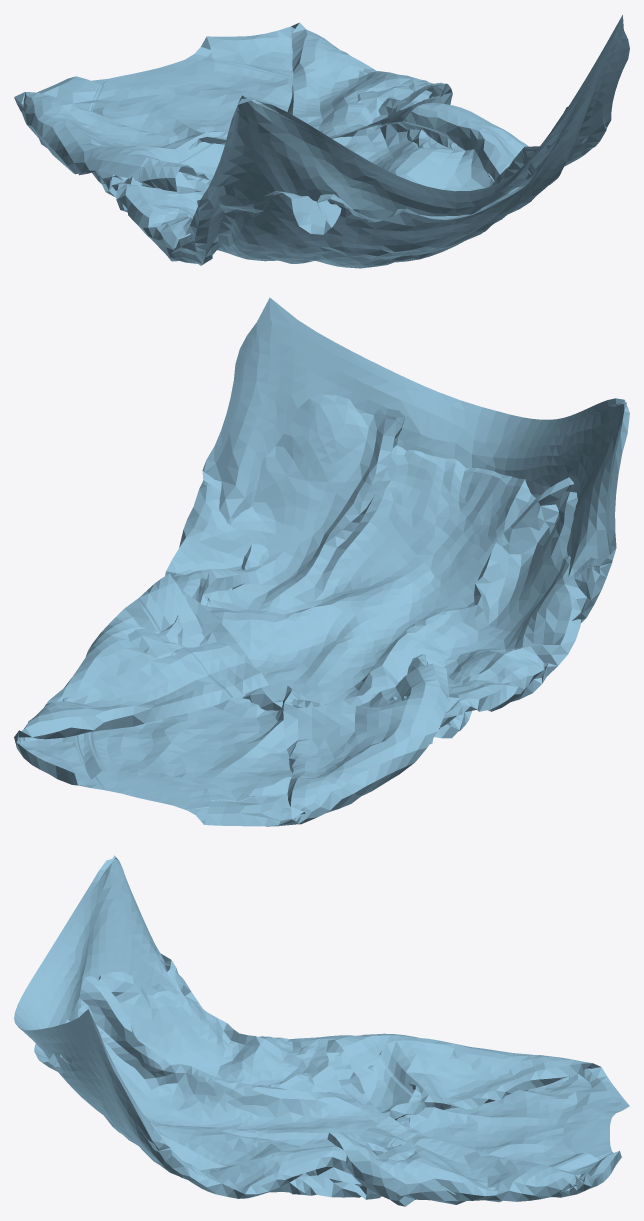
Rendered from frame_05.glb.
3 views of the same model, one above another, from view 1: azimuth 30°, elevation 25°; view 2: azimuth 150°, elevation 25°; view 3: azimuth 270°, elevation 25° (orthographic). The views are drawn at different scales.
Visible parts, largest first — view 1: frame_05.obj; view 2: frame_05.obj; view 3: frame_05.obj.
Boxes of the visible parts, x1,y1,x2,y2 form: frame_05.obj: (14,15,629,268); frame_05.obj: (14,297,629,826); frame_05.obj: (14,855,629,1206).
Bounding box in the file's own units: 1.15 × 0.6491 × 1.73.
